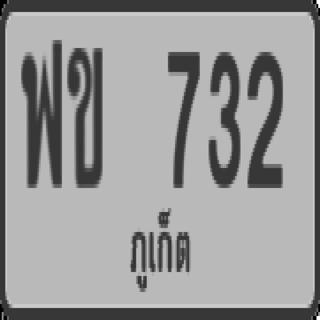A02: (69, 34, 106, 203)
A31: (19, 36, 66, 202)
N02: (246, 30, 288, 216)
N03: (205, 40, 245, 212)
N07: (155, 26, 202, 197)
P48: (123, 192, 197, 306)
